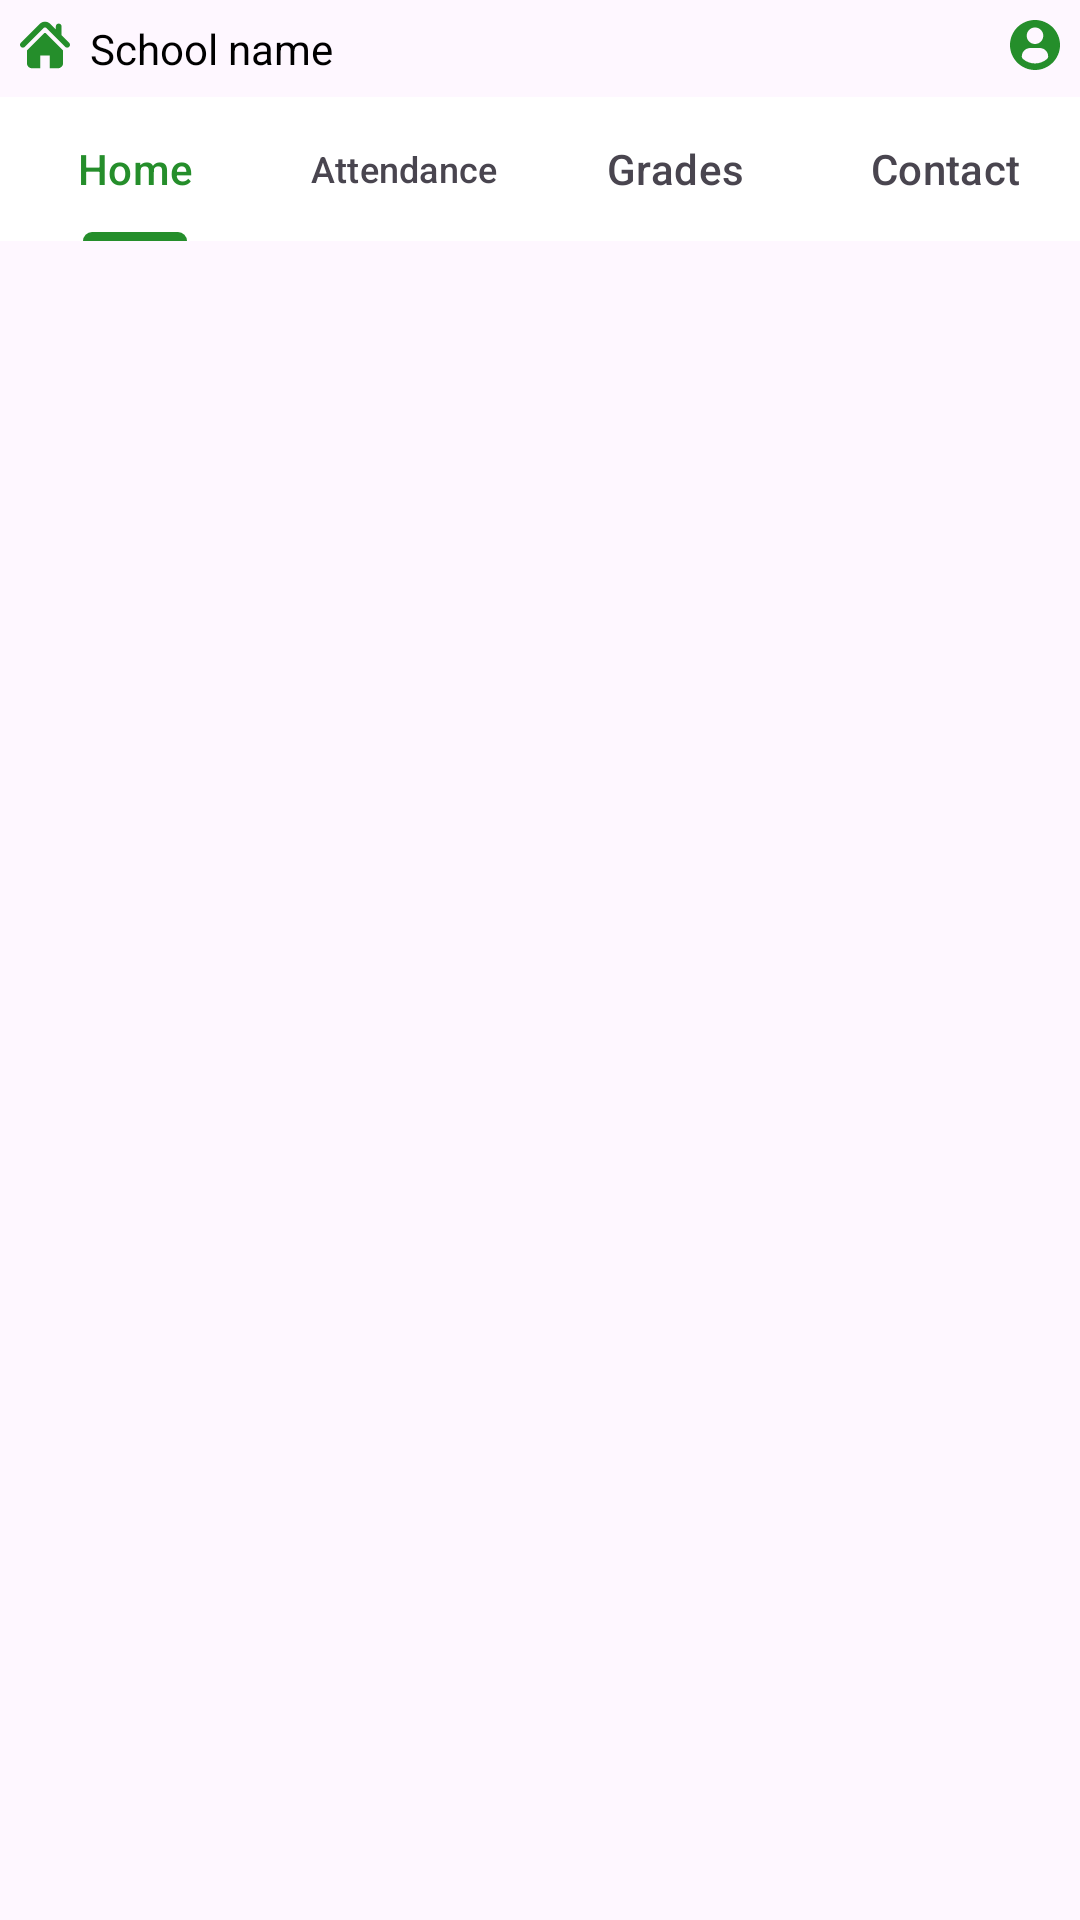

Screen size 1080 × 1920. Icon name, then its box in pixels as {"x1": x1, "y1": y1, "x2": x2, "y2": y2}:
profile user: {"x1": 1010, "y1": 20, "x2": 1060, "y2": 70}
